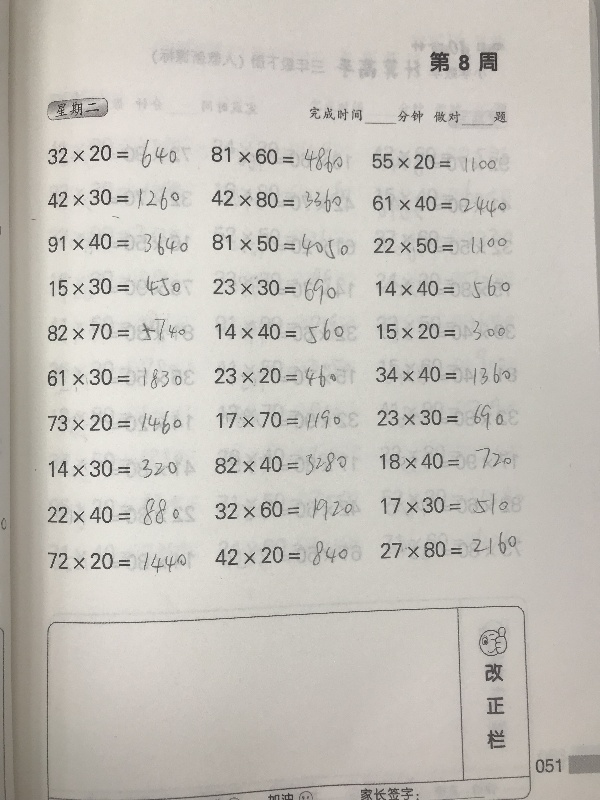equation: (44, 184, 183, 222), (373, 398, 522, 432), (212, 537, 365, 570), (45, 136, 181, 172), (210, 445, 350, 478), (44, 408, 185, 440), (212, 494, 362, 524), (208, 227, 353, 258), (207, 139, 347, 171), (46, 493, 186, 525), (212, 316, 347, 349), (376, 530, 524, 560), (43, 316, 189, 346), (209, 270, 340, 303), (376, 489, 520, 519), (208, 185, 346, 216), (373, 271, 517, 300), (45, 543, 189, 572), (376, 444, 519, 473), (372, 361, 520, 389), (211, 362, 349, 392), (47, 270, 185, 300), (45, 452, 185, 481), (374, 317, 518, 345), (44, 365, 186, 393), (368, 190, 510, 218), (371, 231, 511, 258), (44, 228, 188, 254), (212, 407, 344, 435), (368, 146, 502, 173)
